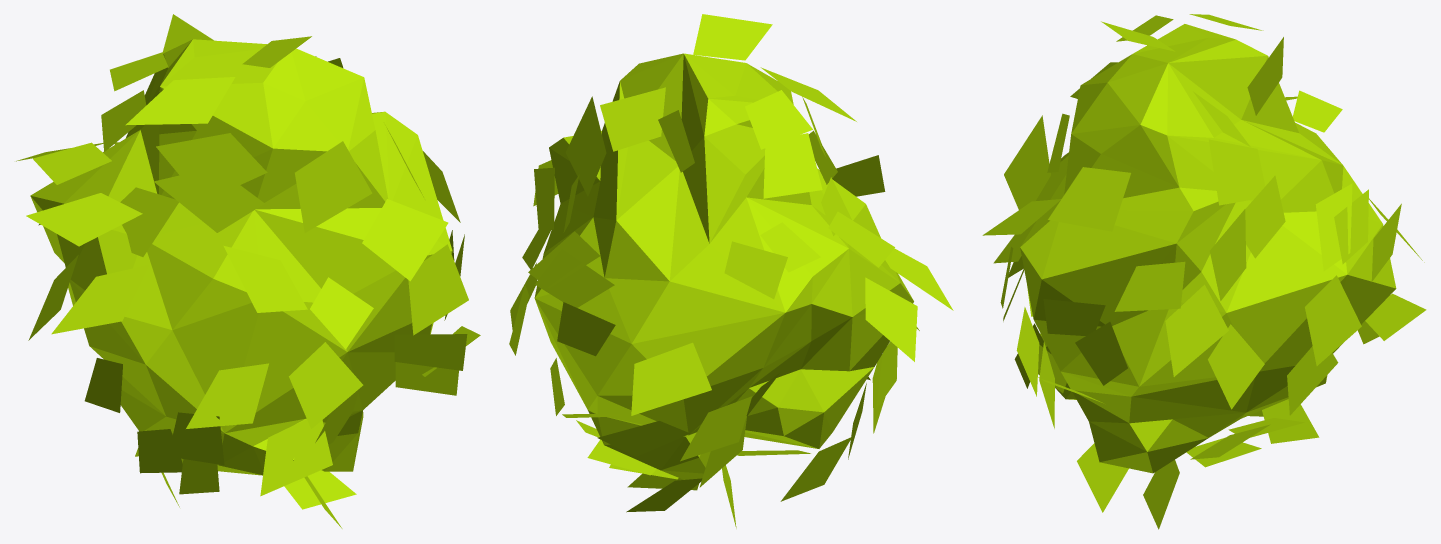
File: SM_Bush_Round_Medium.fbx
3 renders of one model, left to right at view 1: azimuth 30°, elevation 25°; view 2: azimuth 150°, elevation 25°; view 3: azimuth 270°, elevation 25°, orthographic. The views are drawn at different scales.
Parts seen in each view (by area): view 1: SM_Bush_Round_Medium; view 2: SM_Bush_Round_Medium; view 3: SM_Bush_Round_Medium.
Boxes of the visible parts, x1,y1,x2,y2 form: SM_Bush_Round_Medium: (16,14,480,528); SM_Bush_Round_Medium: (509,14,953,528); SM_Bush_Round_Medium: (982,14,1426,529).
Bounding box in the file's own units: 2.22 × 2.54 × 2.2.
